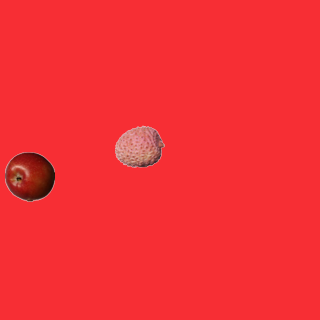Apple Braeburn: (4, 151, 54, 201)
Lychee: (114, 121, 164, 171)
